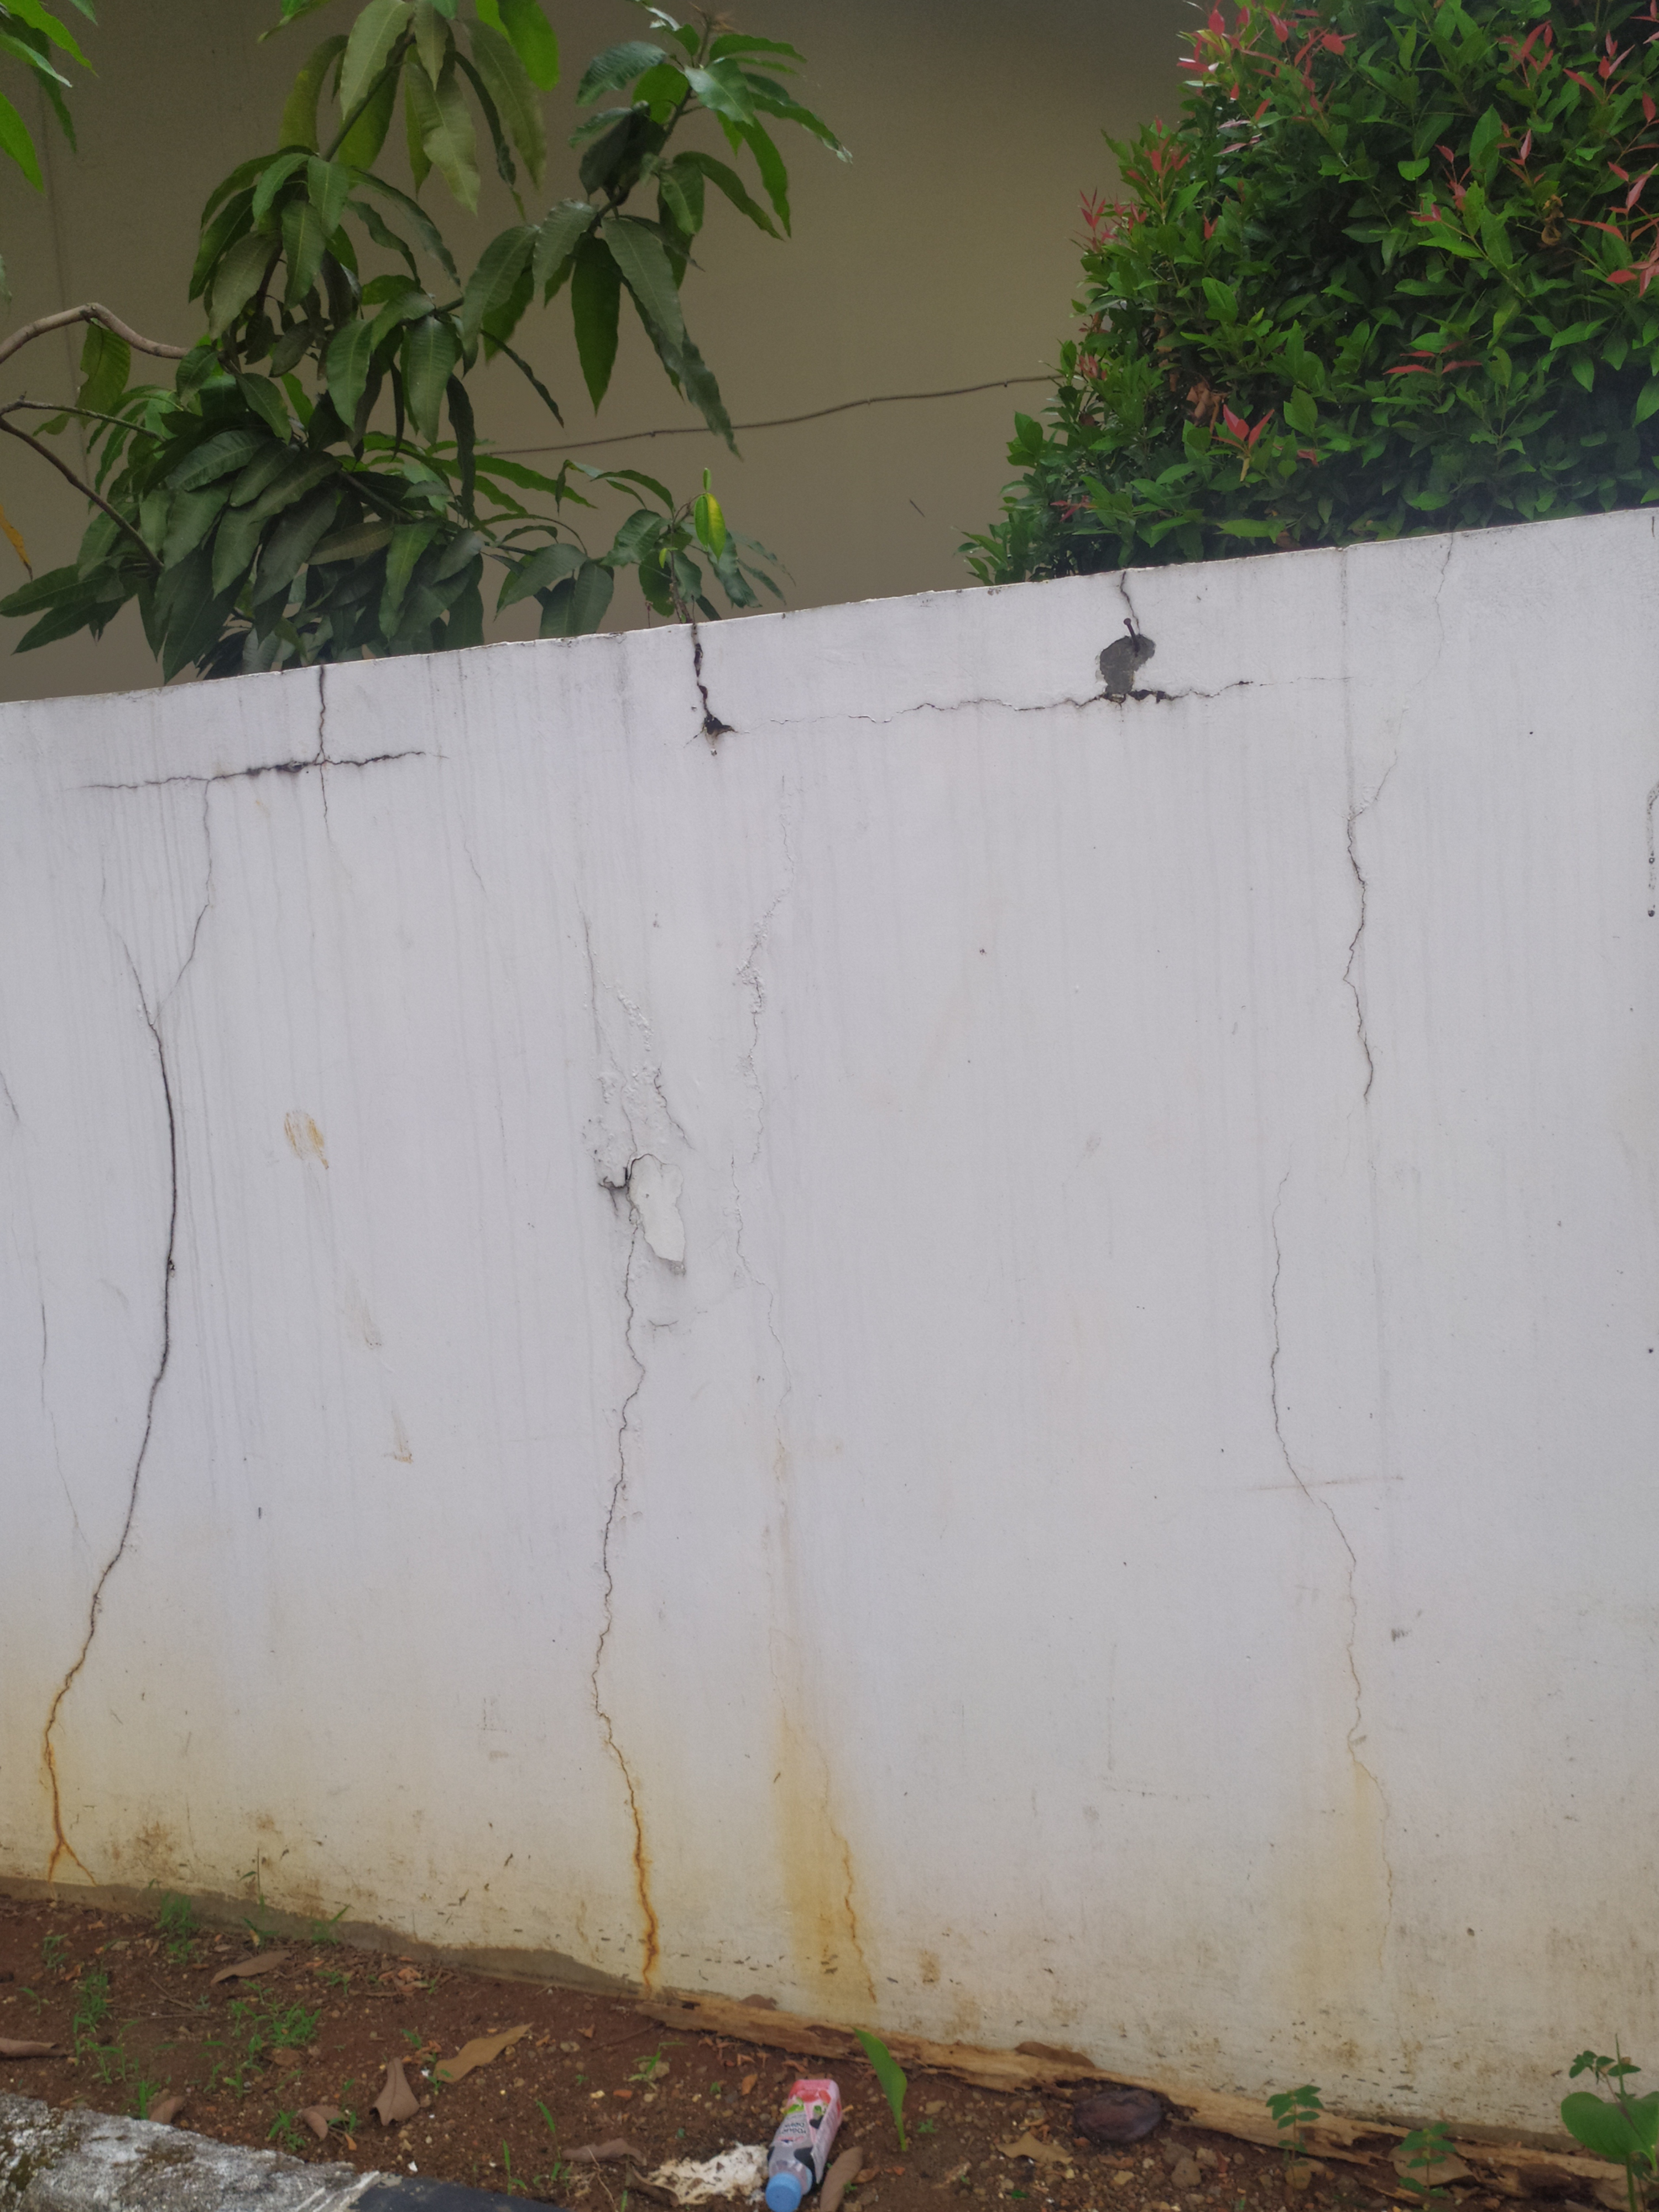crack: (31, 667, 457, 1895), (586, 1150, 687, 1991), (1309, 1500, 1399, 1994), (1330, 745, 1422, 1109), (847, 674, 1342, 733), (1263, 1169, 1314, 1500), (1410, 531, 1476, 686), (685, 624, 739, 742)
